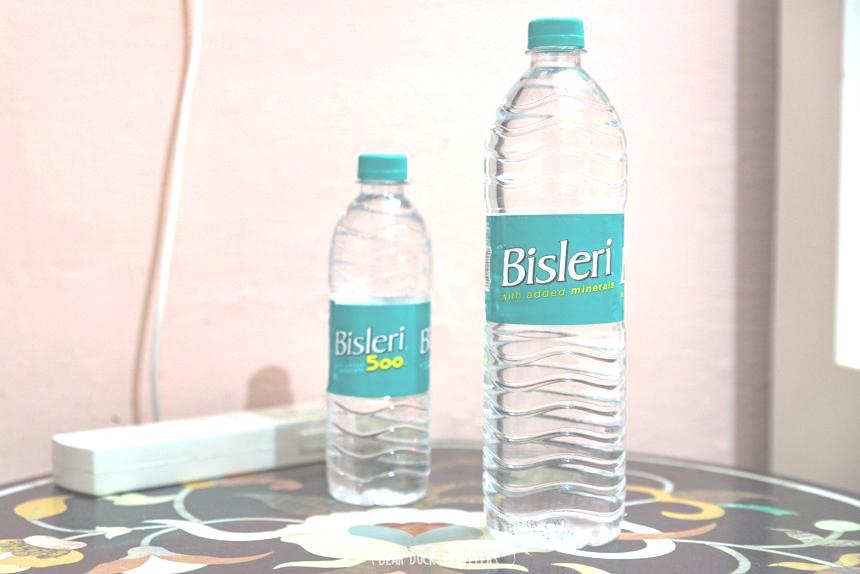bottle: (471, 8, 642, 562), (319, 143, 440, 510)
